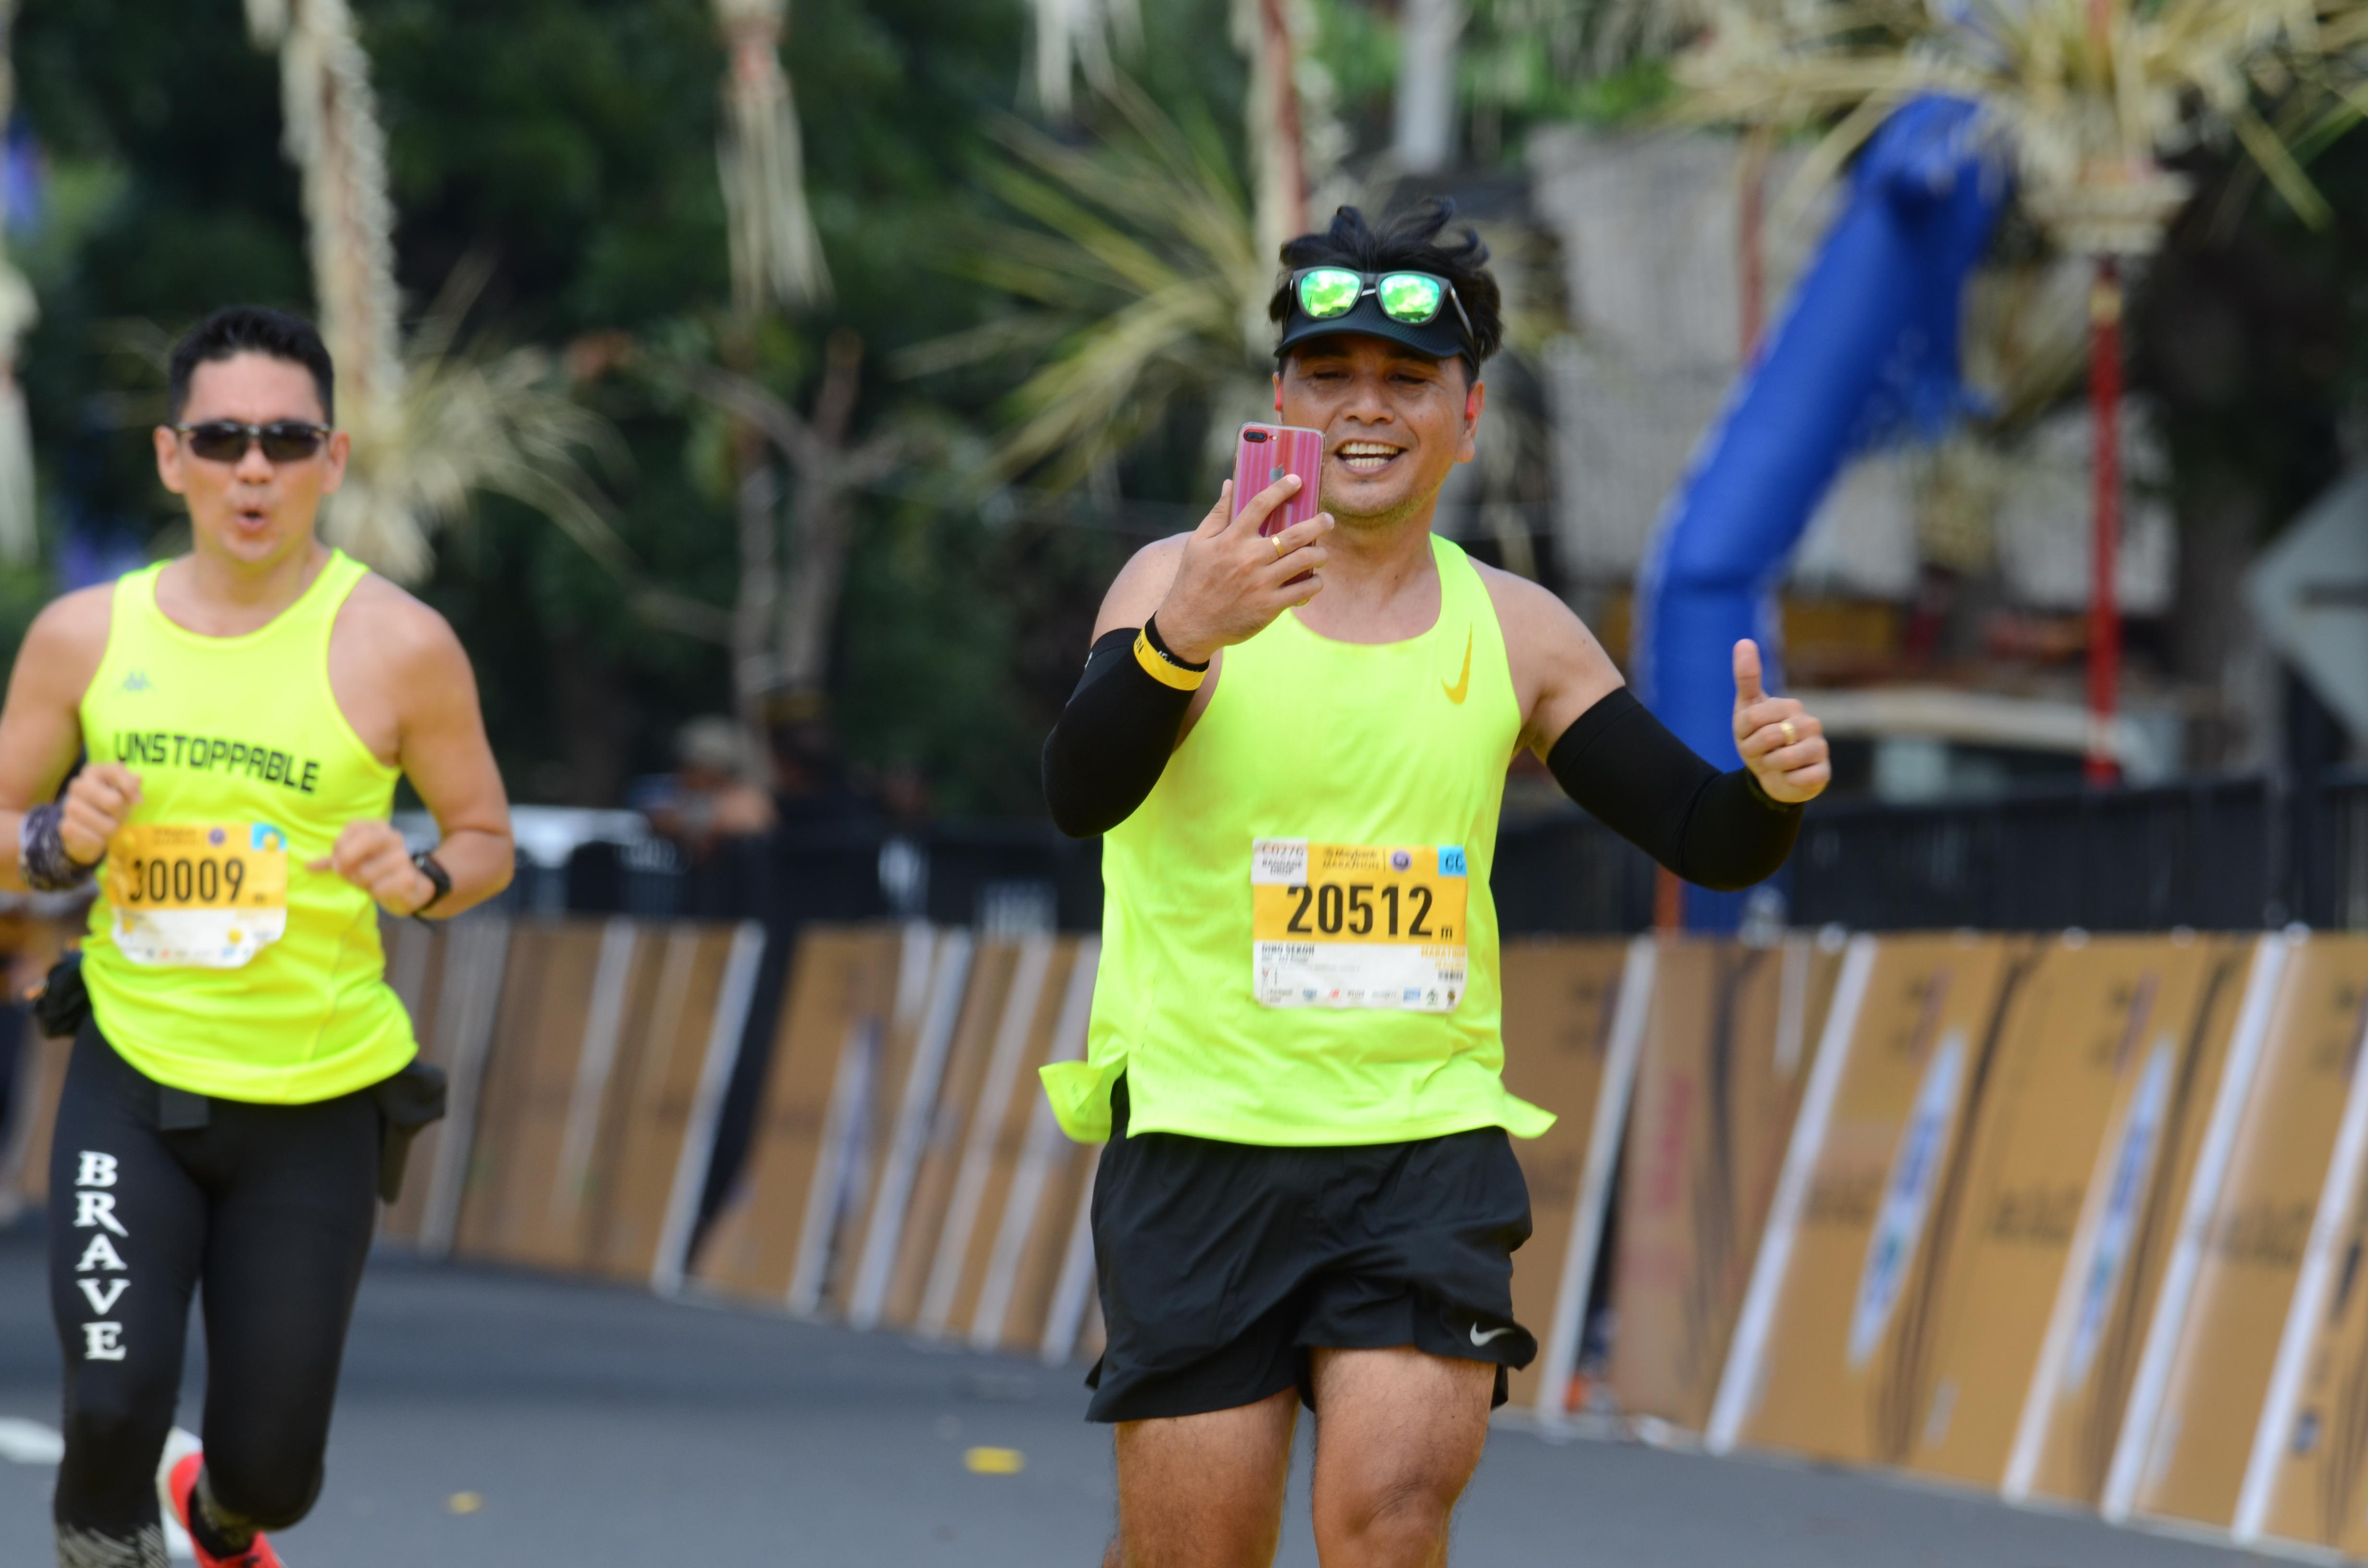bib: (1241, 842, 1465, 1011), (98, 822, 282, 975)
